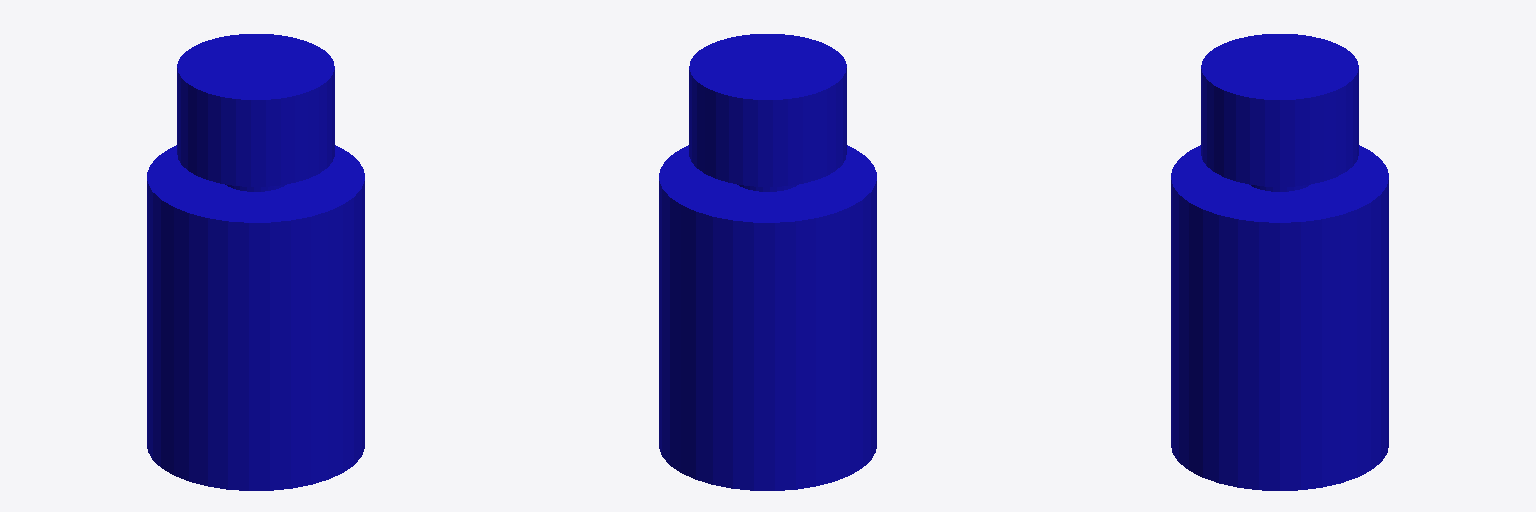
The model's file is character.obj.
3 renders of one model, left to right at view 1: azimuth 30°, elevation 25°; view 2: azimuth 150°, elevation 25°; view 3: azimuth 270°, elevation 25°, orthographic.
Parts seen in each view (by area): view 1: Cylinder; view 2: Cylinder; view 3: Cylinder.
Boxes of the visible parts, x1=… form: Cylinder: x1=147, y1=34, x2=364, y2=490; Cylinder: x1=659, y1=34, x2=876, y2=490; Cylinder: x1=1171, y1=34, x2=1388, y2=490.
Bounding box in the file's own units: 0.891 × 1.7 × 0.891.